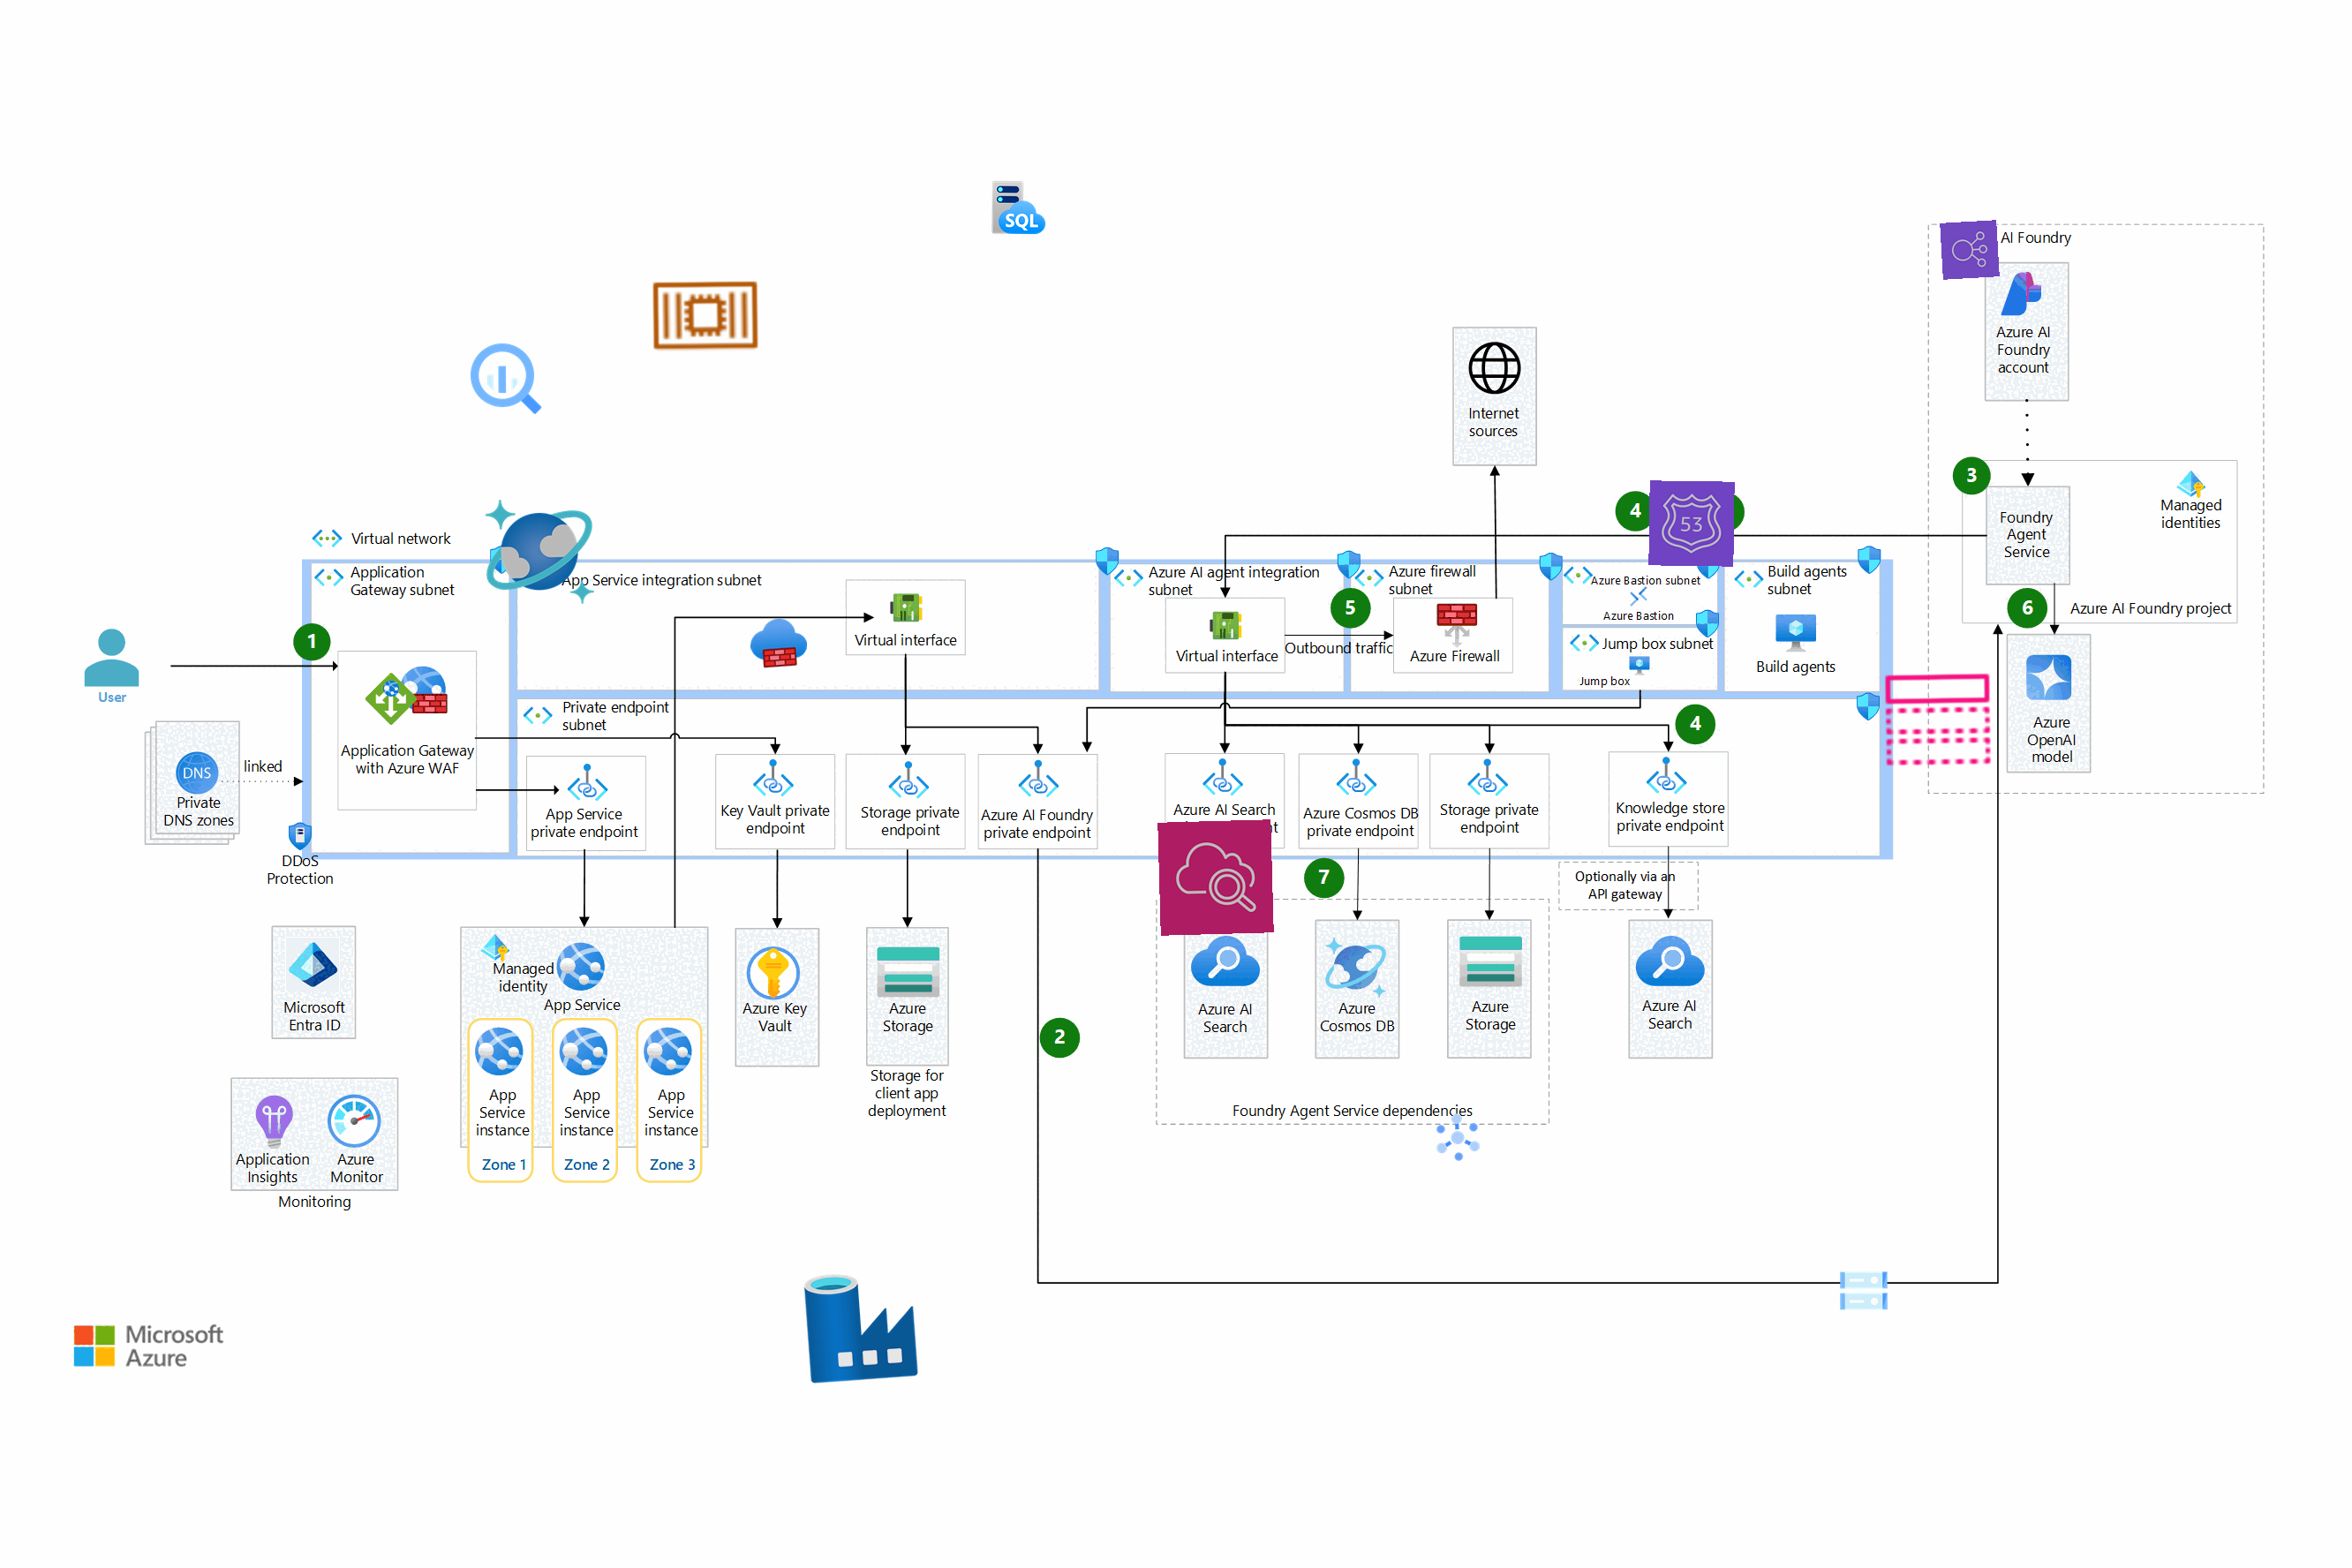aws_amazon_cloudwatch: (1157, 819, 1274, 936)
aws_amazon_route_53: (1648, 479, 1734, 567)
aws_elastic_container_service_container_2: (647, 257, 763, 373)
aws_elastic_load_balancing: (1939, 220, 2000, 280)
aws_simple_notification_service_topic: (1879, 661, 1997, 777)
azure_cosmos_db: (481, 494, 598, 611)
azure_data_factories: (800, 1265, 922, 1388)
azure_firewalls: (747, 612, 810, 674)
azure_sql_managed_instance: (990, 178, 1048, 236)
gcp_bigquery: (462, 336, 549, 422)
gcp_cloud_storage: (1834, 1262, 1893, 1319)
gcp_pubsub: (1428, 1108, 1487, 1167)
